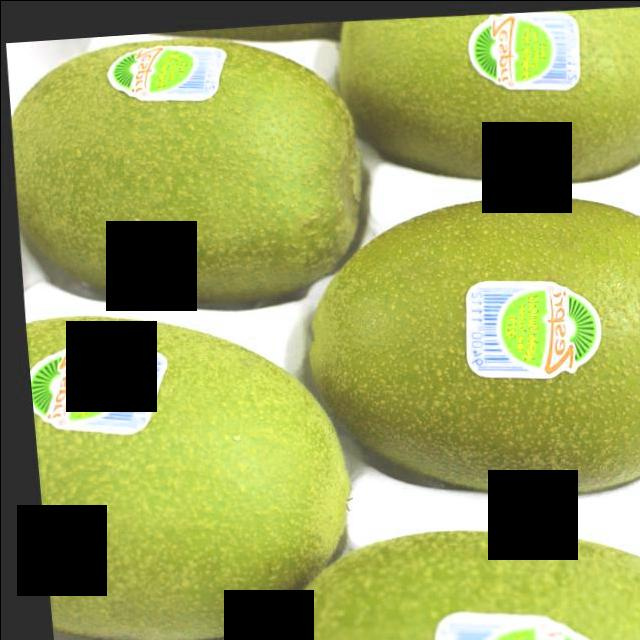kiwi: (21, 292, 356, 640), (290, 182, 640, 508), (3, 20, 367, 310), (330, 3, 640, 193), (246, 508, 640, 640)
